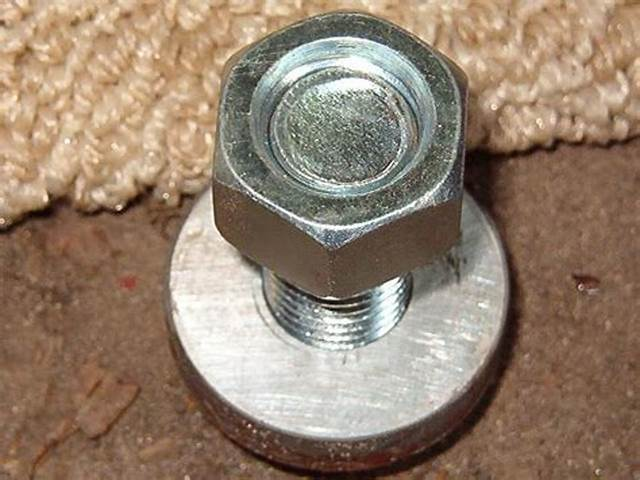bolt_b: (210, 7, 472, 303)
